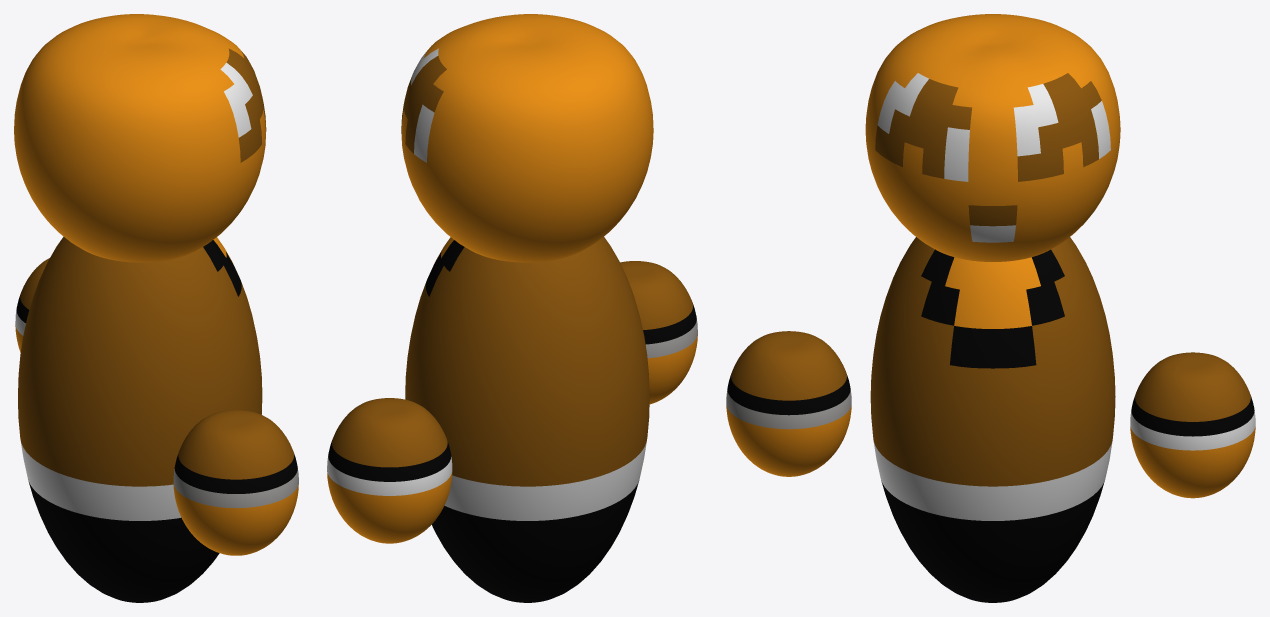
Rendered from relationshiporange.fbx.
The picture shows the model from 3 angles, left to right: view 1: azimuth 30°, elevation 25°; view 2: azimuth 150°, elevation 25°; view 3: azimuth 270°, elevation 25°; orthographic projection.
Parts seen in each view (by area): view 1: Body, Head, Arm 1, Arm 2; view 2: Body, Head, Arm 2, Arm 1; view 3: Body, Head, Arm 2, Arm 1.
Part boxes in pixels (box(x1,y1,x2,y2)): Body: box(18, 236, 262, 602); Head: box(14, 14, 266, 262); Arm 1: box(173, 410, 298, 555); Arm 2: box(15, 258, 49, 352); Body: box(405, 237, 649, 602); Head: box(401, 14, 653, 262); Arm 2: box(327, 398, 452, 543); Arm 1: box(620, 261, 697, 404); Body: box(870, 237, 1115, 602); Head: box(865, 14, 1120, 261); Arm 2: box(1130, 352, 1255, 498); Arm 1: box(726, 331, 851, 476).
Size of the model in its own units: 203 by 497 by 427.
